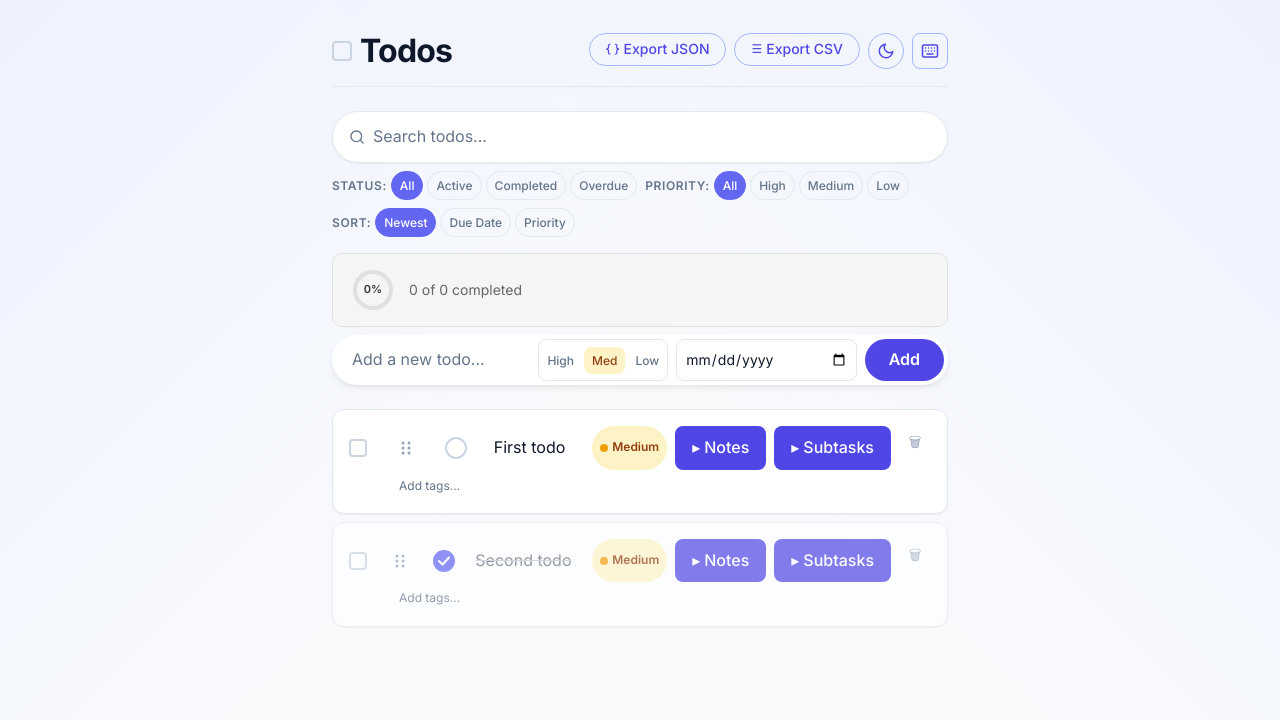
TodoList › stacks multiple toasts when deleting multiple todos
The image size is (1280, 720).
Expected: the button "First todo" is shown, [494,435,565,461]
Click the button named "delete". click: (915, 442)
box: [899,426,931,458]
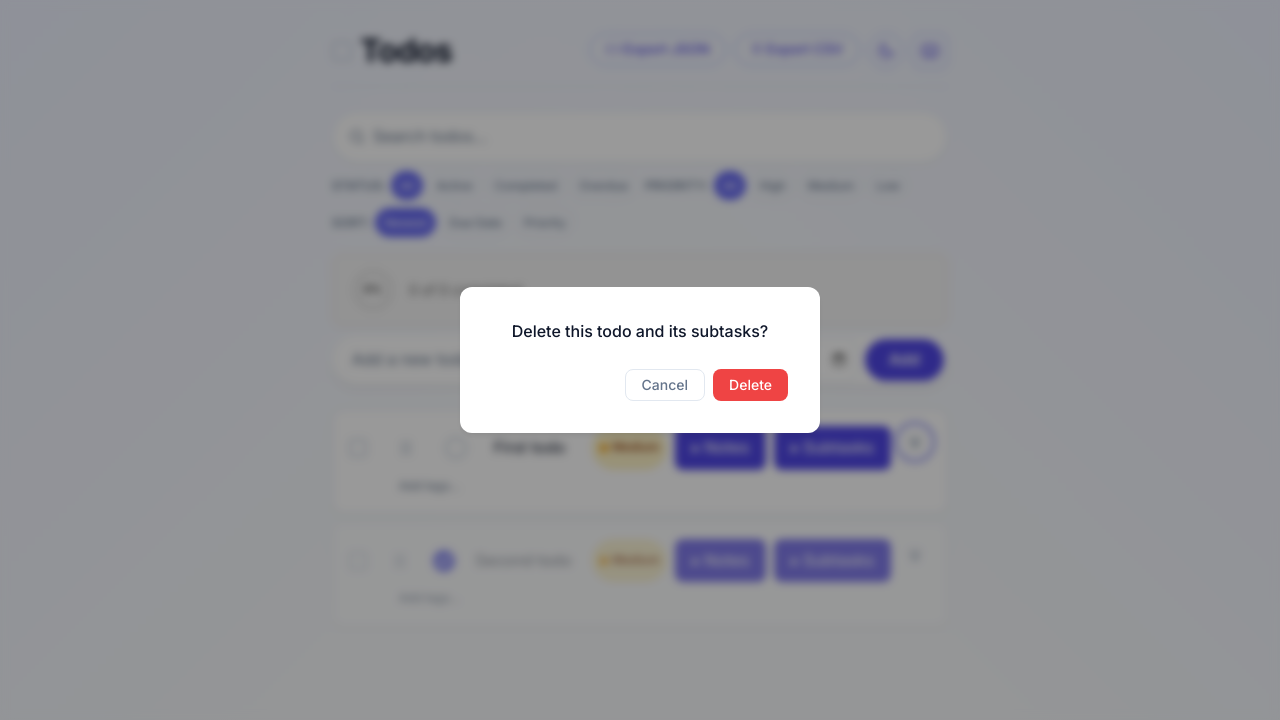
Click the button with aria-label "confirm delete". click: (751, 385)
box: [713,369,788,401]
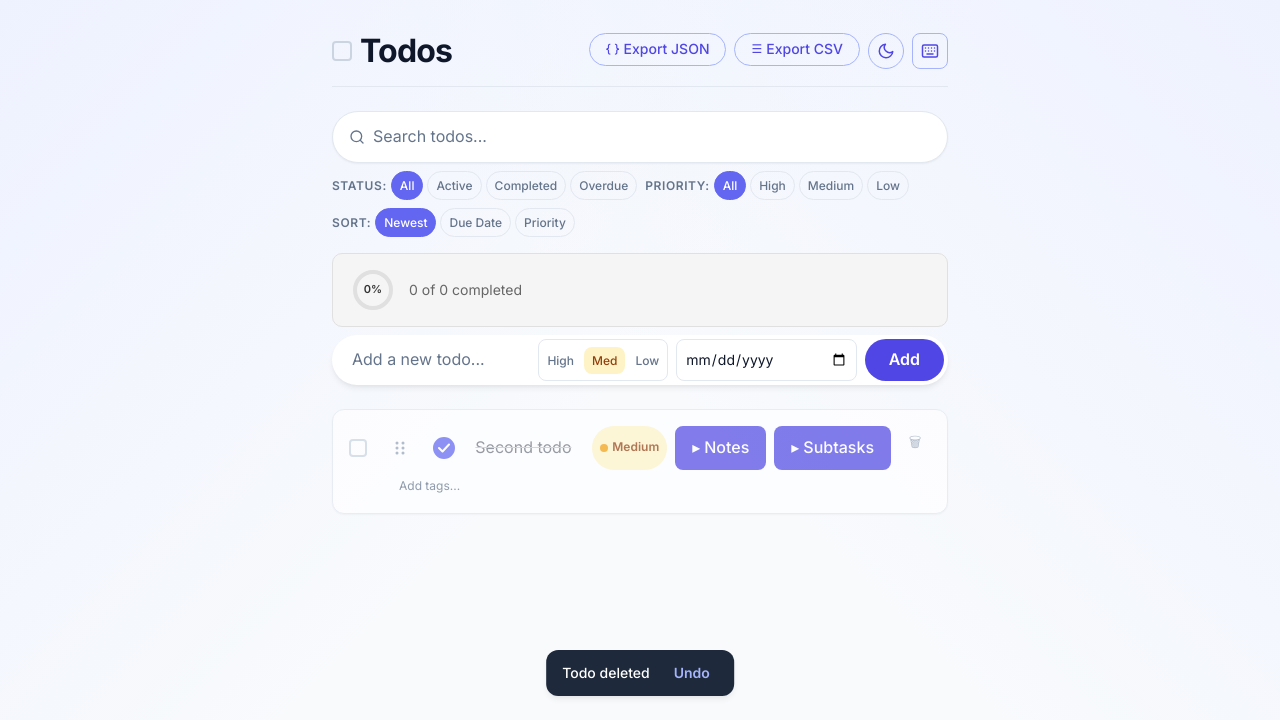
Expected: the button "First todo" is gone
Click the button named "delete". click: (915, 442)
box: [899,426,931,458]
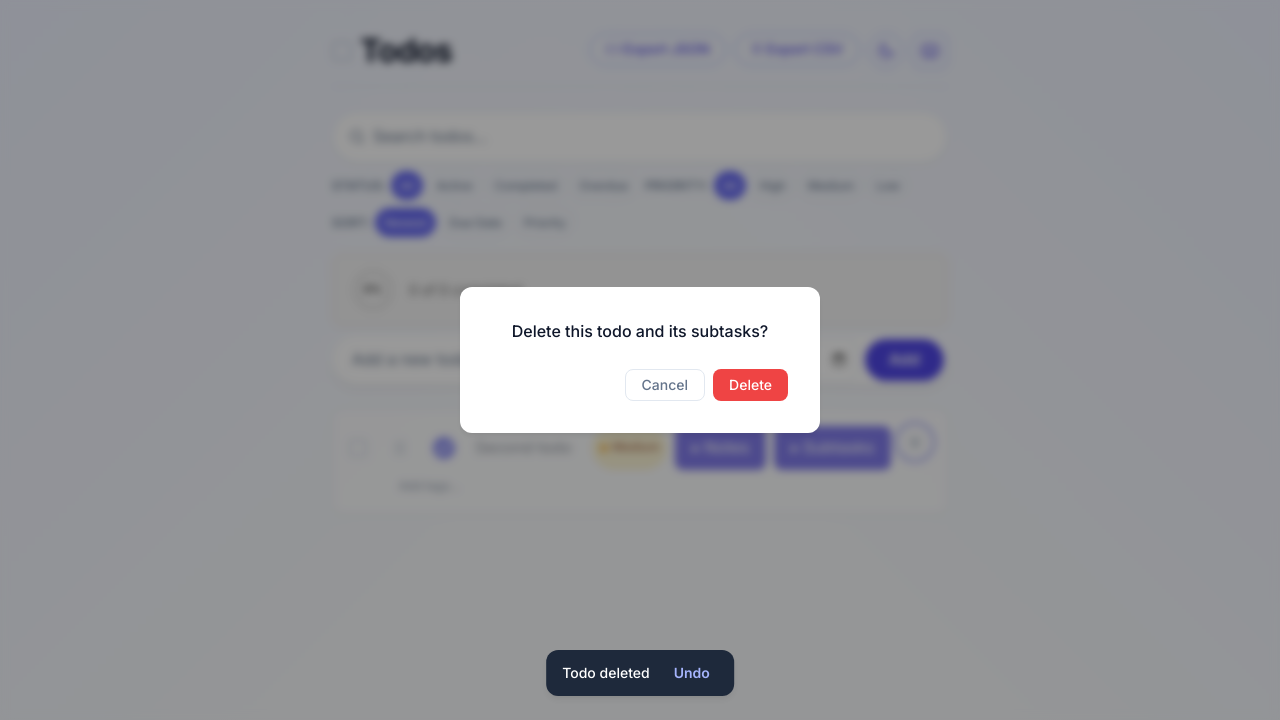
Click the button with aria-label "confirm delete". click: (751, 385)
box: [713,369,788,401]
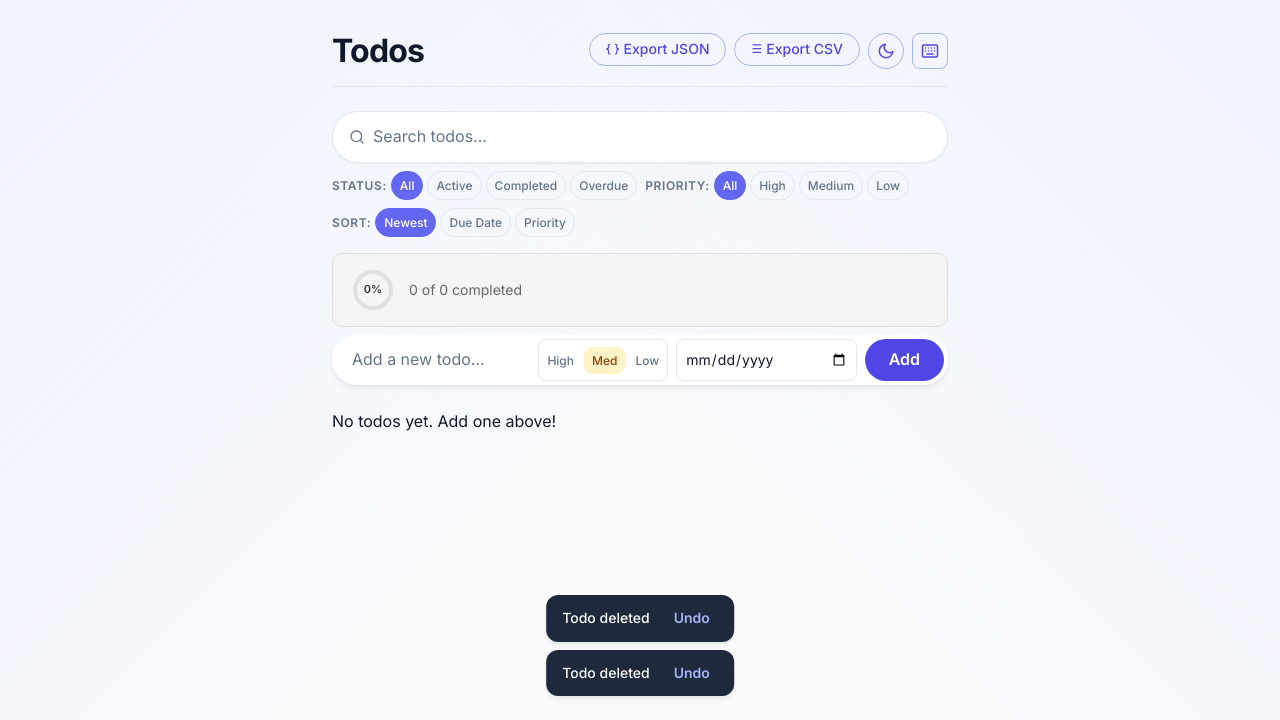
Expected: the button "Second todo" is gone
Expected: the text "Todo deleted" is shown 2 times, [562,662,650,684]; [562,607,650,630]
